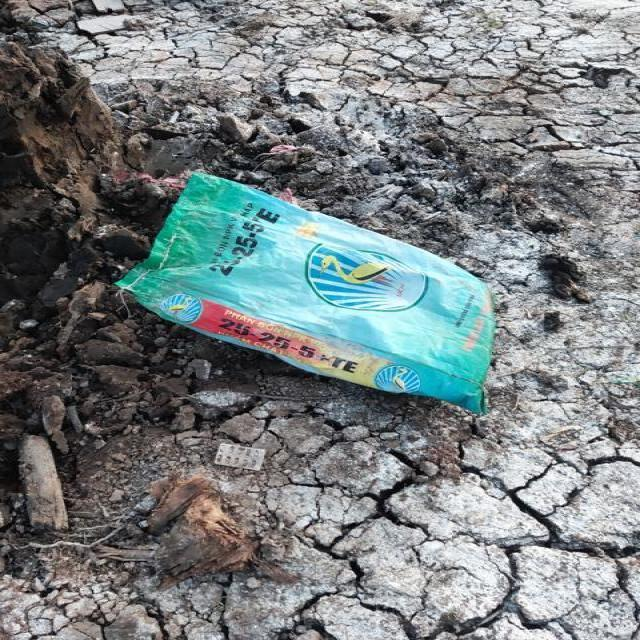gunny_bag: (119, 174, 496, 413)
